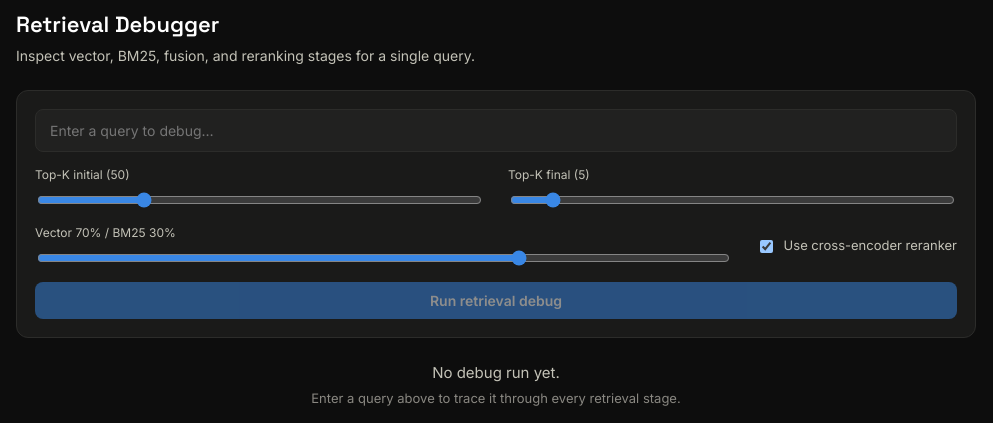
Test: RetrievalDebuggerView › adjusting the vector weight slider keeps vector+BM25 complementary
Set the slider labelled "Vector 70% / BM25 30%" to "0.3" at (248,258), box x1=37 y1=250 x2=730 y2=266
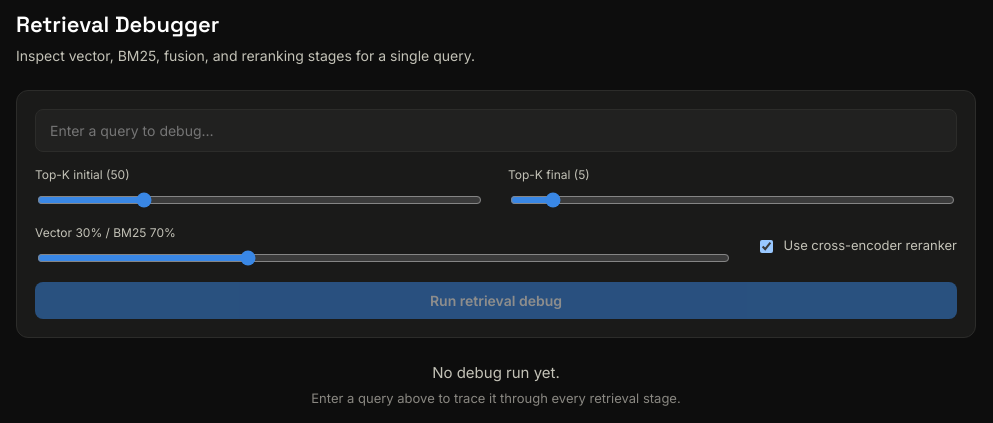
Check: the text "Vector 30% / BM25 70%" is shown, box x1=35 y1=225 x2=176 y2=240
